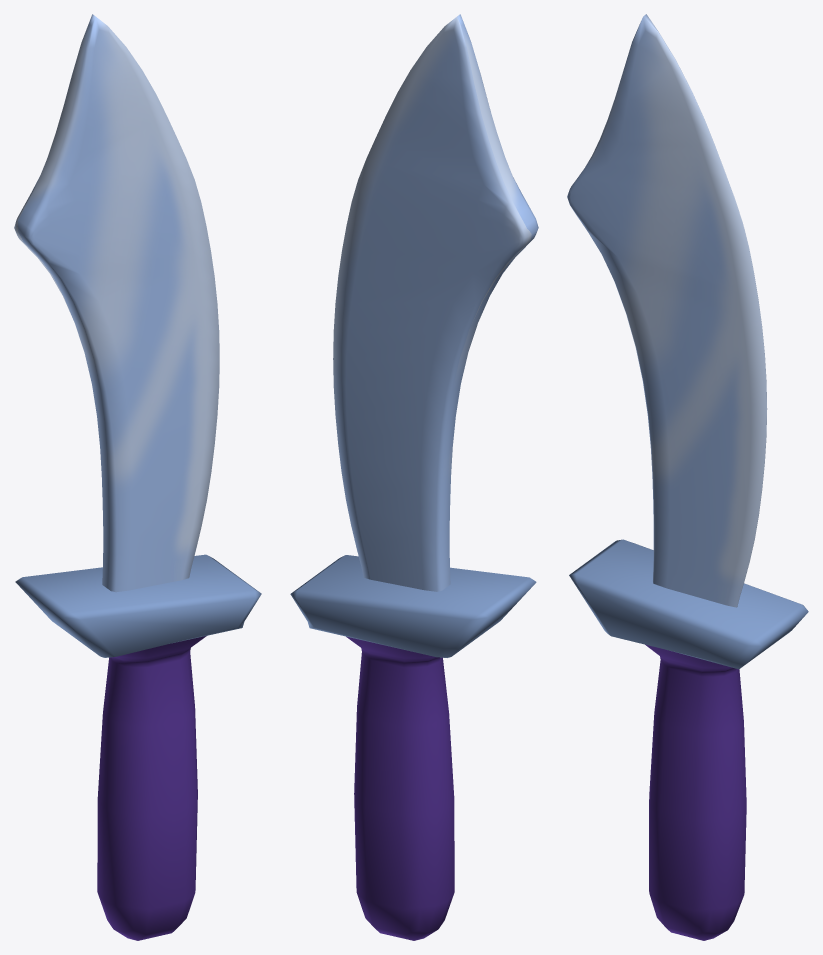
The model's file is dagger.fbx.
The picture shows the model from 3 angles, left to right: view 1: azimuth 30°, elevation 25°; view 2: azimuth 150°, elevation 25°; view 3: azimuth 330°, elevation 25°; orthographic projection. The views are drawn at different scales.
Parts seen in each view (by area): view 1: dagger; view 2: dagger; view 3: dagger.
Part boxes in pixels (left/top/right/bottom): dagger: left=14, top=14, right=261, bottom=940; dagger: left=290, top=14, right=538, bottom=940; dagger: left=567, top=14, right=808, bottom=940.
Bounding box in the file's own units: 0.2622 × 1.07 × 0.1194.
Materials: 1 (1 with a texture image).
